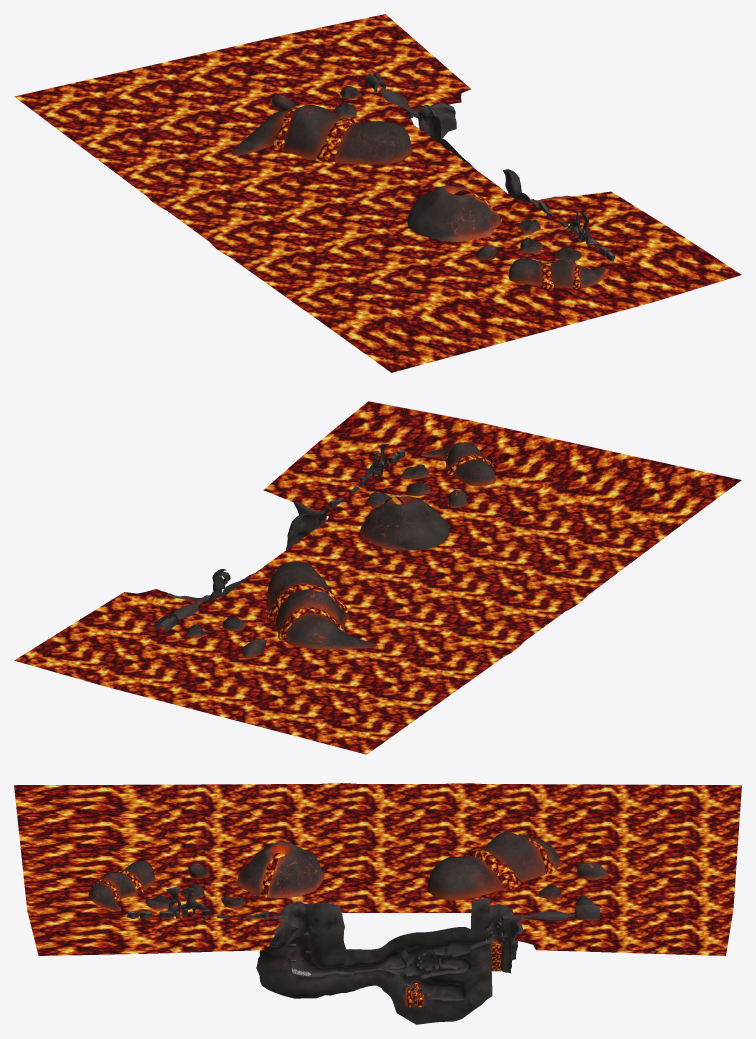
Rendered from first level.fbx.
3 renders of one model, top to bottom at view 1: azimuth 30°, elevation 25°; view 2: azimuth 150°, elevation 25°; view 3: azimuth 270°, elevation 25°, orthographic. The views are drawn at different scales.
Visible parts, largest first — view 1: LavaPlane, backMountain2, backVolcano, backMountain1, cave03, backFall4, cave01; view 2: LavaPlane, backMountain2, backVolcano, backMountain1, cave01, cave03, backFall4; view 3: LavaPlane, cave02, cave01, backMountain2, cave03, backVolcano, backMountain1, backFall4, cave02walk, platform03, cave03walk, backRock5.
Boxes of the visible parts, bbox=[...] form: LavaPlane: bbox=[14, 14, 741, 372]; backMountain2: bbox=[231, 105, 411, 164]; backVolcano: bbox=[407, 185, 501, 241]; backMountain1: bbox=[508, 258, 606, 288]; cave03: bbox=[366, 70, 456, 143]; backFall4: bbox=[315, 117, 355, 163]; cave01: bbox=[503, 169, 570, 206]; LavaPlane: bbox=[14, 401, 741, 754]; backMountain2: bbox=[267, 561, 377, 649]; backVolcano: bbox=[360, 496, 449, 550]; backMountain1: bbox=[421, 442, 496, 485]; cave01: bbox=[286, 502, 330, 549]; cave03: bbox=[154, 569, 230, 632]; backFall4: bbox=[267, 583, 348, 620]; LavaPlane: bbox=[14, 783, 741, 955]; cave02: bbox=[353, 927, 472, 1024]; cave01: bbox=[256, 901, 354, 998]; backMountain2: bbox=[427, 831, 560, 900]; cave03: bbox=[464, 897, 600, 1010]; backVolcano: bbox=[236, 841, 324, 898]; backMountain1: bbox=[88, 861, 155, 911]; backFall4: bbox=[464, 849, 521, 889]; cave02walk: bbox=[354, 950, 470, 1000]; platform03: bbox=[159, 886, 213, 918]; cave03walk: bbox=[471, 911, 574, 949]; backRock5: bbox=[576, 862, 608, 880].
Size of the model in its own units: 737 by 278 by 1311.
